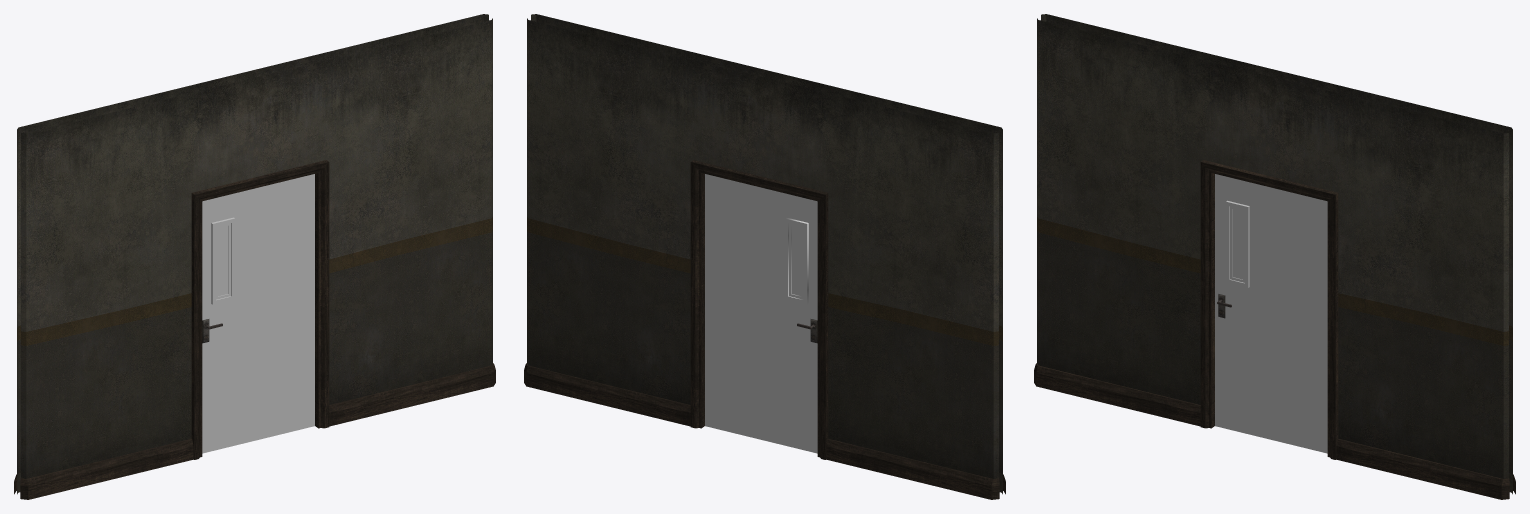
The model's file is doorway_1_1.fbx.
The picture shows the model from 3 angles, left to right: view 1: azimuth 30°, elevation 25°; view 2: azimuth 150°, elevation 25°; view 3: azimuth 330°, elevation 25°; orthographic projection.
Parts seen in each view (by area): view 1: doorway_1_1, door_3; view 2: doorway_1_1, door_3; view 3: doorway_1_1, door_3.
Boxes of the visible parts, x1,y1,x2,y2 form: doorway_1_1: (14,14,495,499); door_3: (202,174,314,453); doorway_1_1: (524,14,1005,499); door_3: (705,174,817,453); doorway_1_1: (1034,14,1515,499); door_3: (1215,174,1327,453).
Size of the model in its own units: 4.09 by 0.2 by 3.
